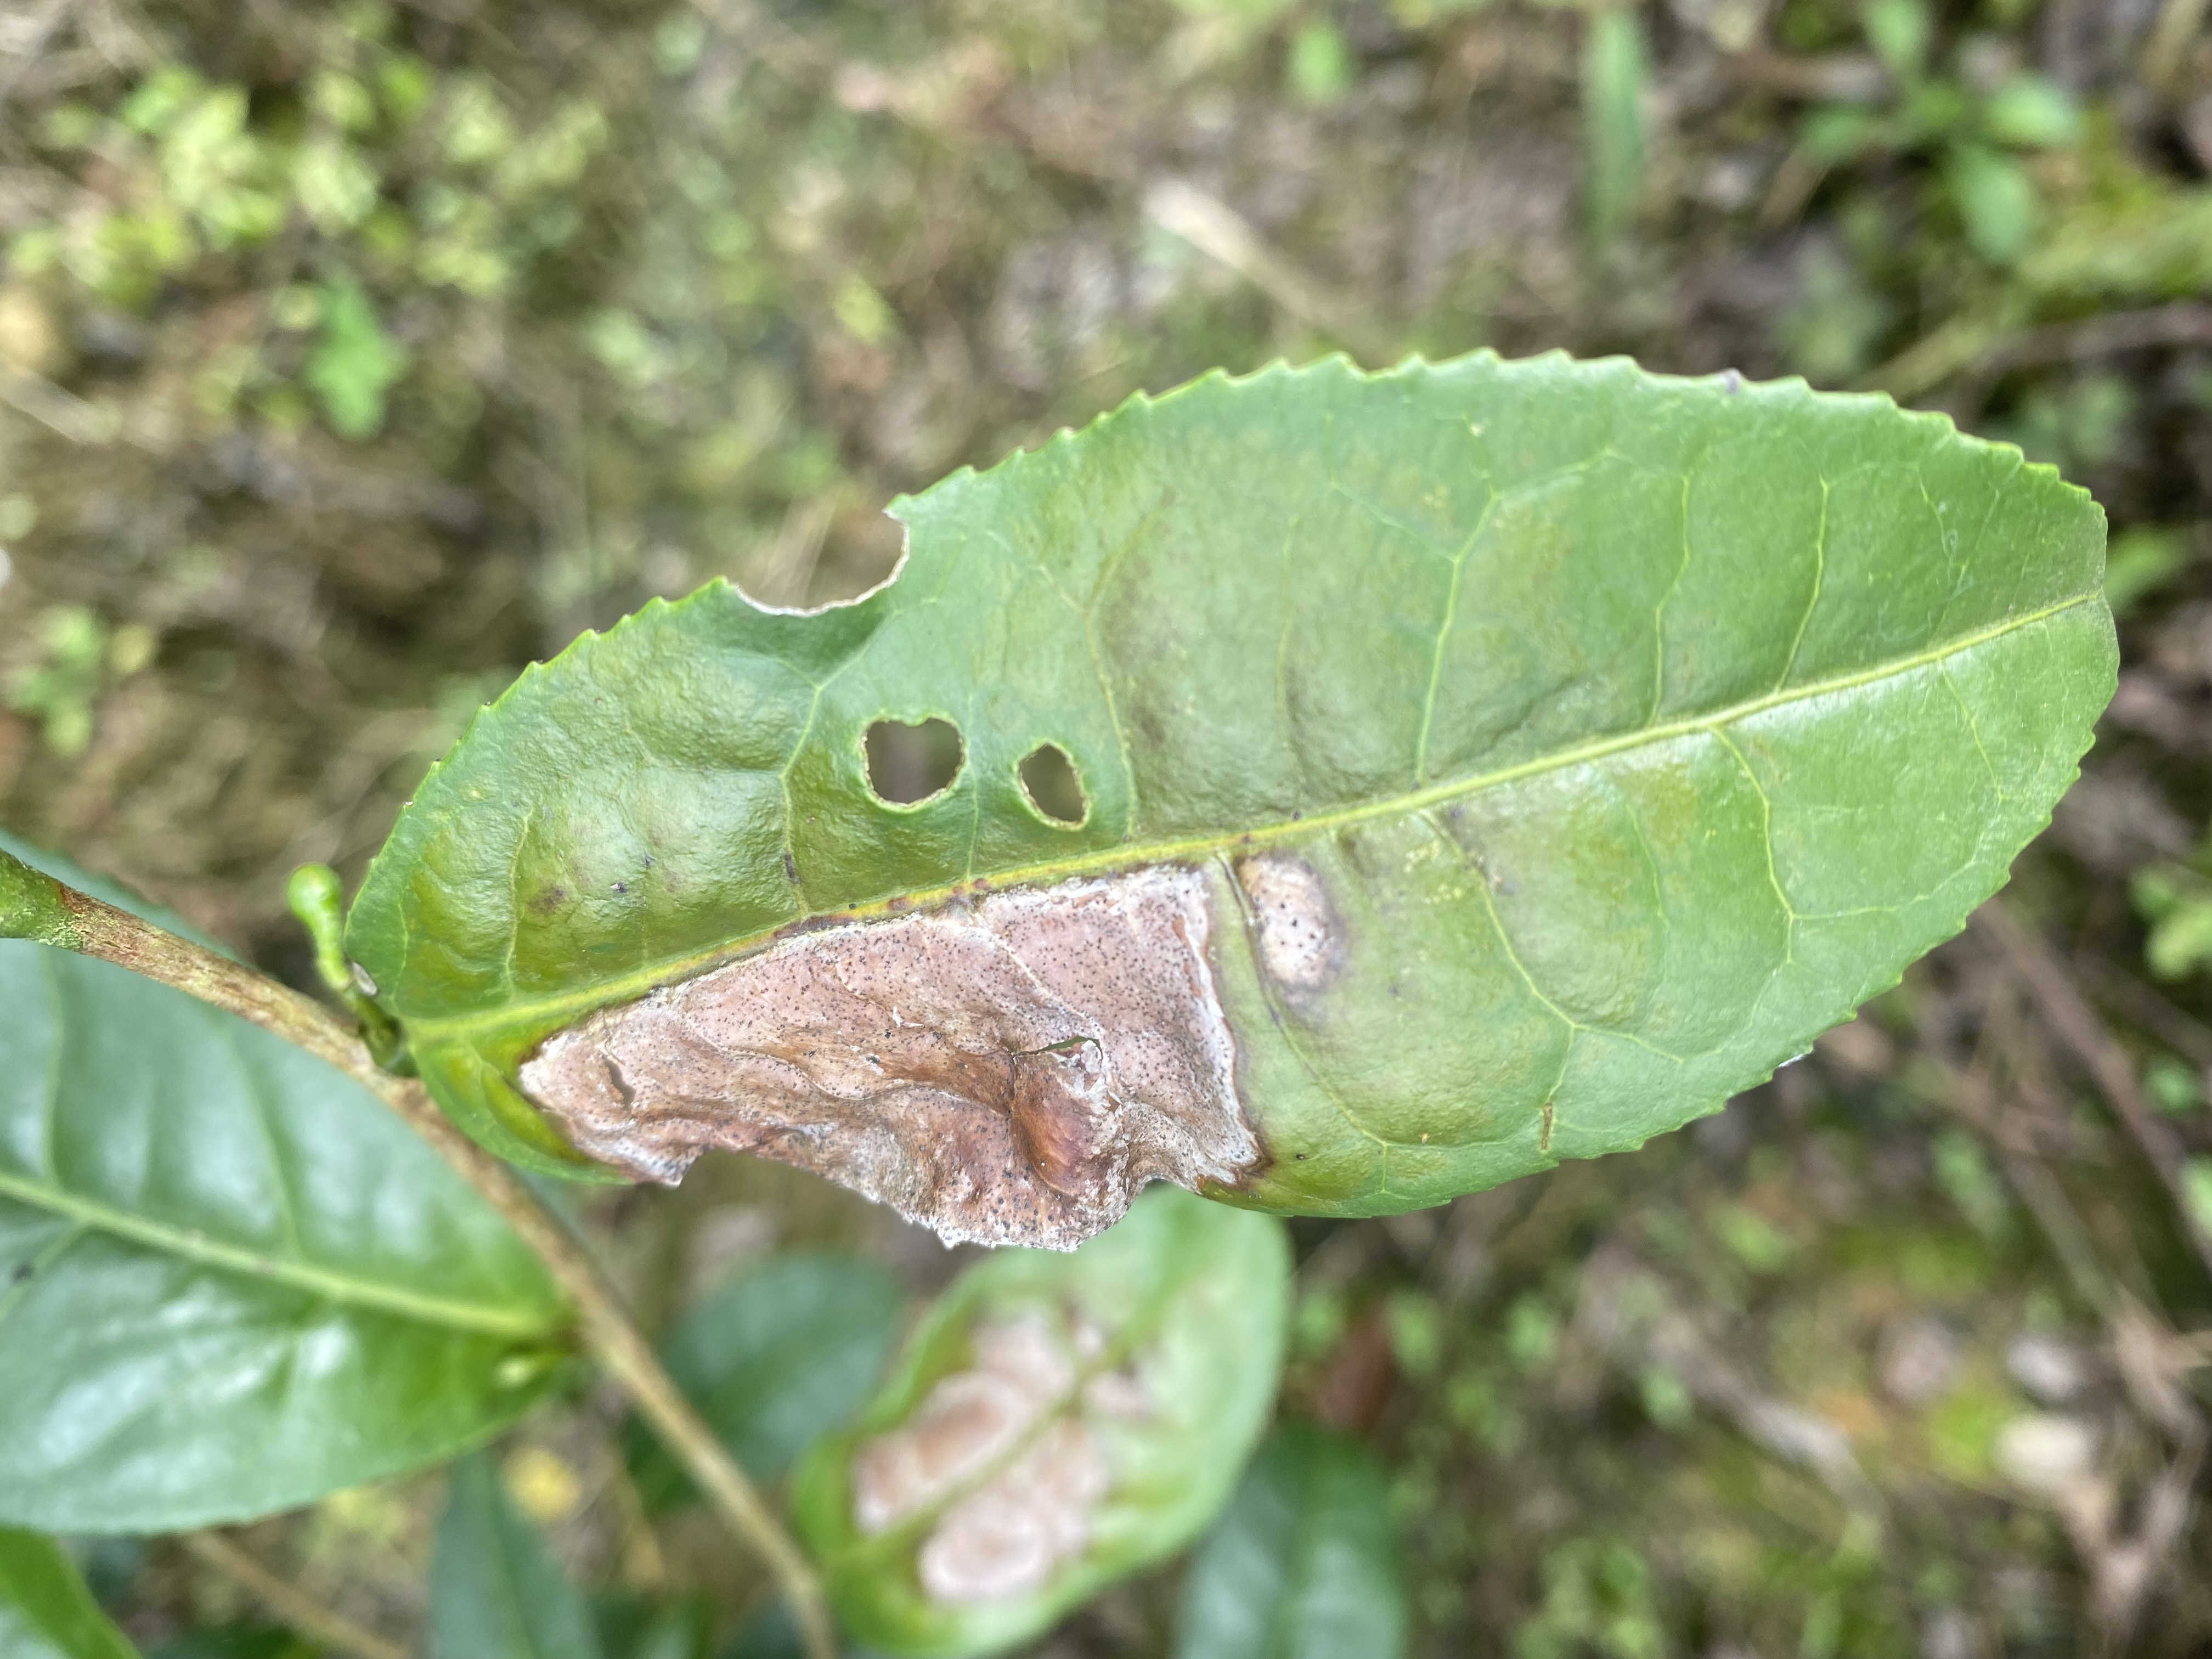healthy: (2, 939, 577, 1544)
tanju_high: (343, 343, 2125, 1246), (792, 1185, 1296, 1649)
